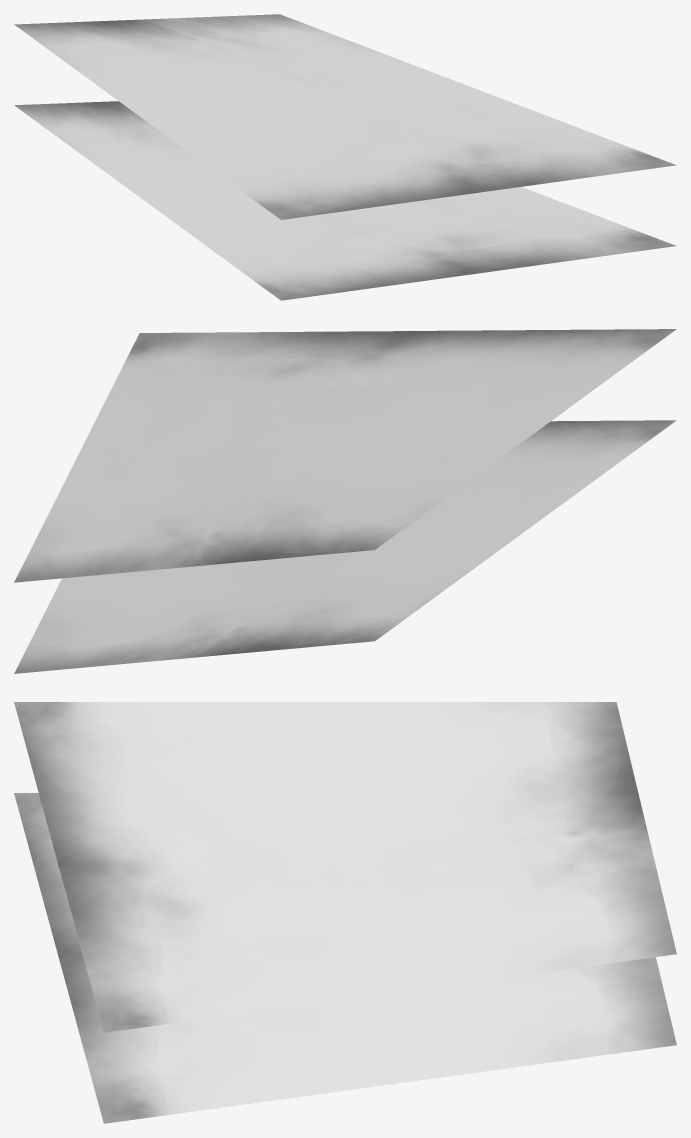
The model's file is CourseWinter_CurveFloor_5_16.fbx.
3 views of the same model, one above another, from view 1: azimuth 30°, elevation 25°; view 2: azimuth 150°, elevation 25°; view 3: azimuth 270°, elevation 25° (orthographic). The views are drawn at different scales.
Parts seen in each view (by area): view 1: polySurface668; view 2: polySurface668; view 3: polySurface668.
Boxes of the visible parts, left/top/right/bottom form: polySurface668: left=14, top=14, right=676, bottom=300; polySurface668: left=14, top=329, right=676, bottom=673; polySurface668: left=14, top=702, right=676, bottom=1123.
Bounding box in the file's own units: 5.65 × 2 × 6.6.
1 material, 1 textured.
